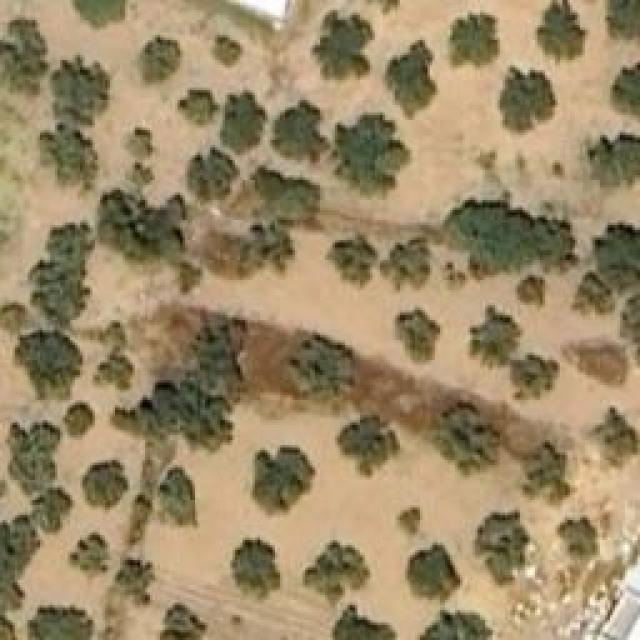Tree: (443, 202, 563, 280), (473, 308, 558, 398), (98, 193, 191, 273), (332, 113, 410, 193), (188, 313, 253, 390), (470, 507, 530, 585), (302, 540, 370, 605), (290, 338, 353, 408), (253, 448, 316, 513), (33, 120, 96, 185), (338, 415, 403, 475), (580, 405, 640, 468), (30, 258, 90, 321), (52, 48, 110, 113), (0, 20, 48, 95), (230, 533, 280, 603), (437, 403, 495, 463), (500, 68, 555, 131), (315, 10, 373, 68), (445, 10, 500, 70), (385, 40, 435, 105), (220, 93, 268, 156), (587, 130, 640, 187), (20, 330, 70, 390), (595, 225, 640, 290), (8, 425, 53, 490), (538, 0, 588, 58), (518, 440, 568, 498), (188, 148, 238, 203), (393, 310, 443, 365), (155, 465, 200, 525), (403, 550, 456, 600), (275, 105, 325, 158), (328, 235, 378, 285), (247, 223, 295, 273), (415, 610, 495, 640), (333, 602, 396, 640), (138, 35, 183, 88), (385, 238, 430, 291), (83, 460, 128, 508), (27, 607, 92, 640), (558, 515, 601, 563), (88, 350, 133, 395), (72, 0, 132, 32), (158, 602, 208, 640), (570, 273, 612, 317), (115, 558, 155, 603), (178, 87, 221, 125), (612, 62, 640, 120), (70, 533, 110, 573), (605, 0, 640, 45), (117, 125, 155, 160), (210, 33, 245, 68), (35, 493, 68, 528), (515, 273, 546, 310), (65, 400, 95, 435), (398, 505, 421, 535)
